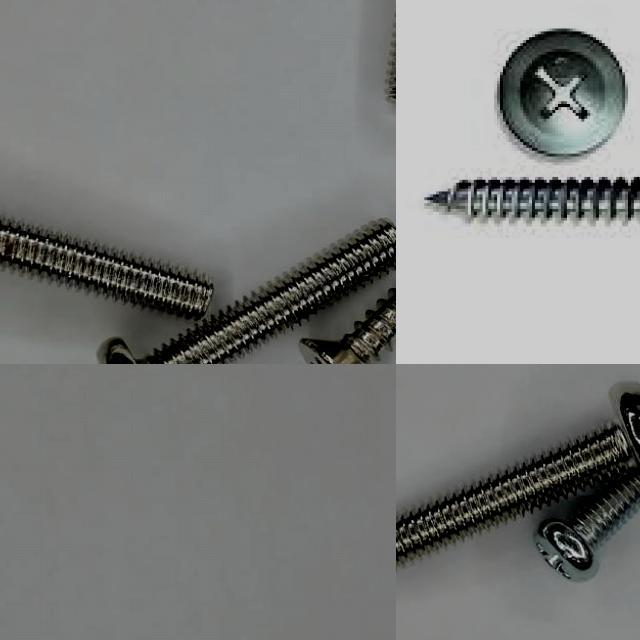Screw: (396, 383, 640, 567), (99, 219, 396, 364), (0, 220, 212, 318), (497, 29, 628, 162), (534, 474, 640, 582), (424, 180, 640, 223), (300, 289, 396, 364)
